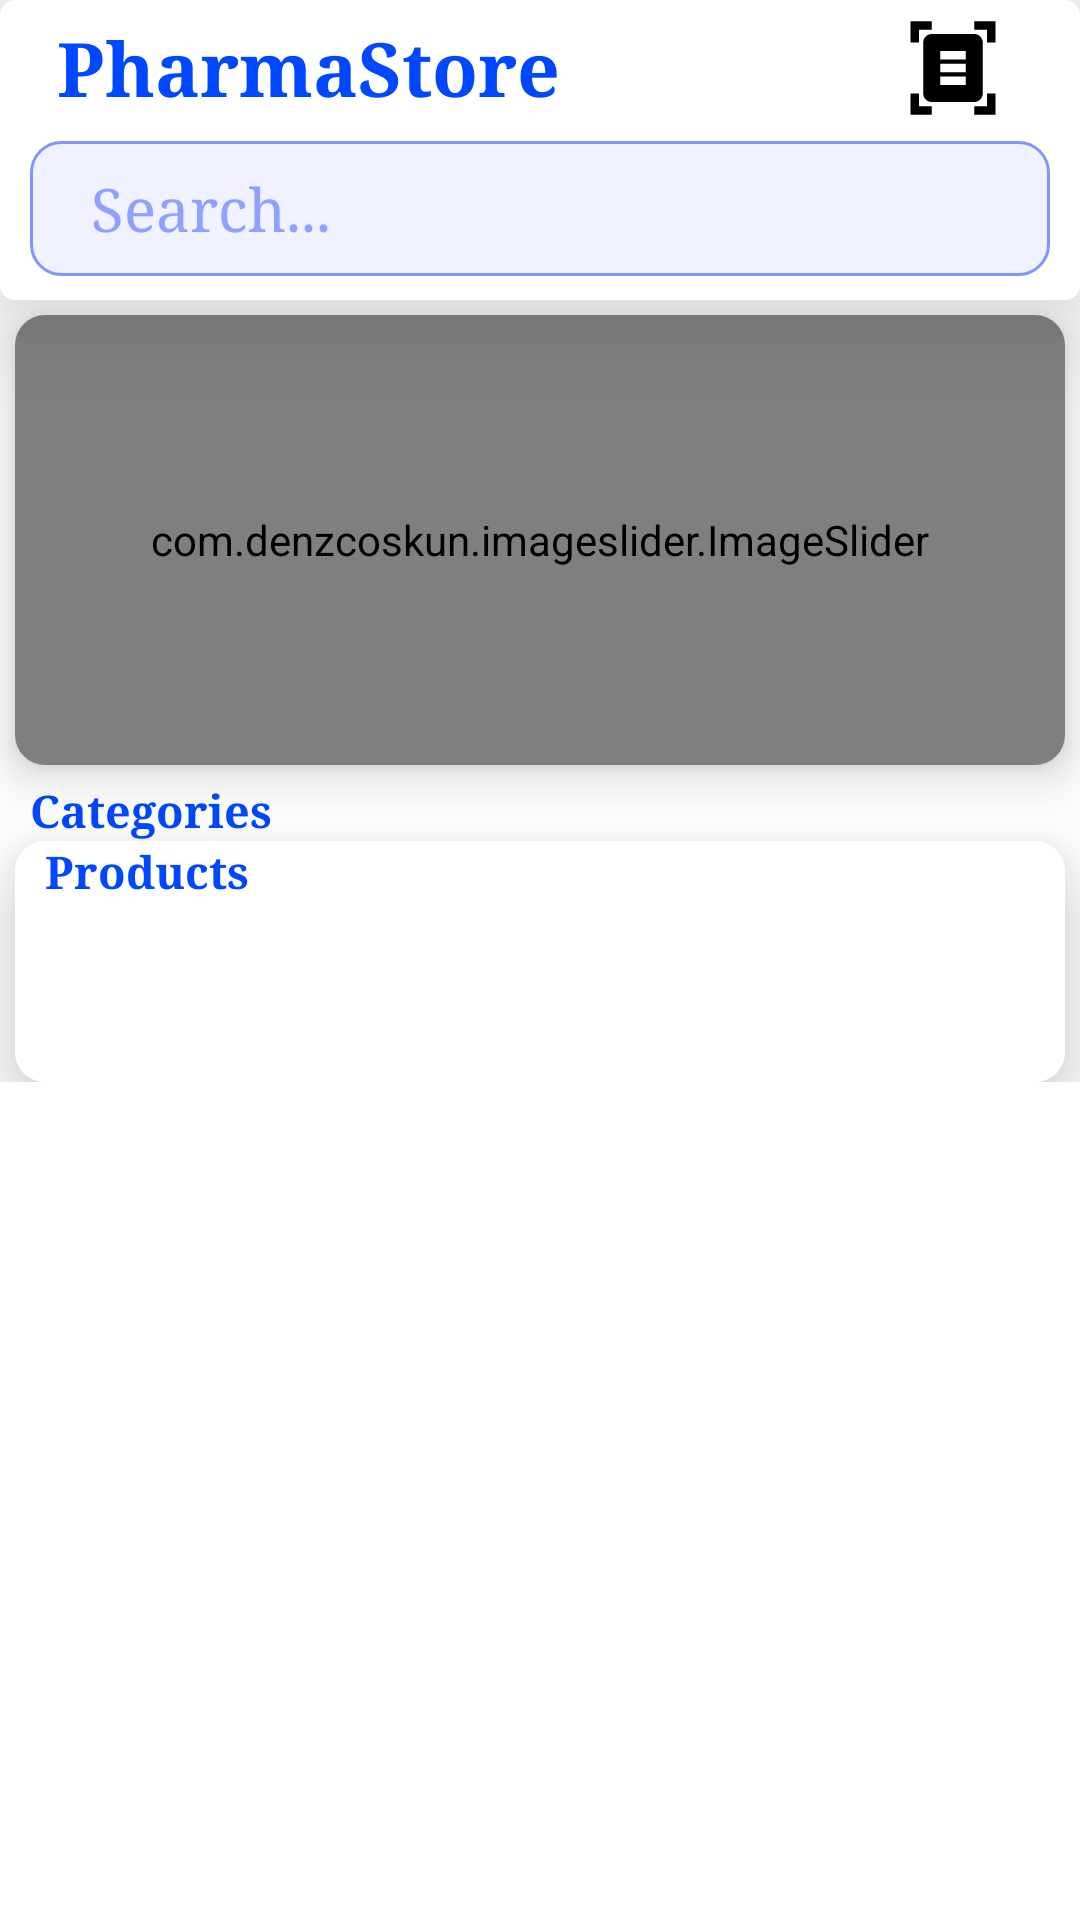

Locate icon controls on the screen. Image size 1080px x 1920px, boxes as [x1,y1,x2,y2].
document scanner: [910,21,996,115]
